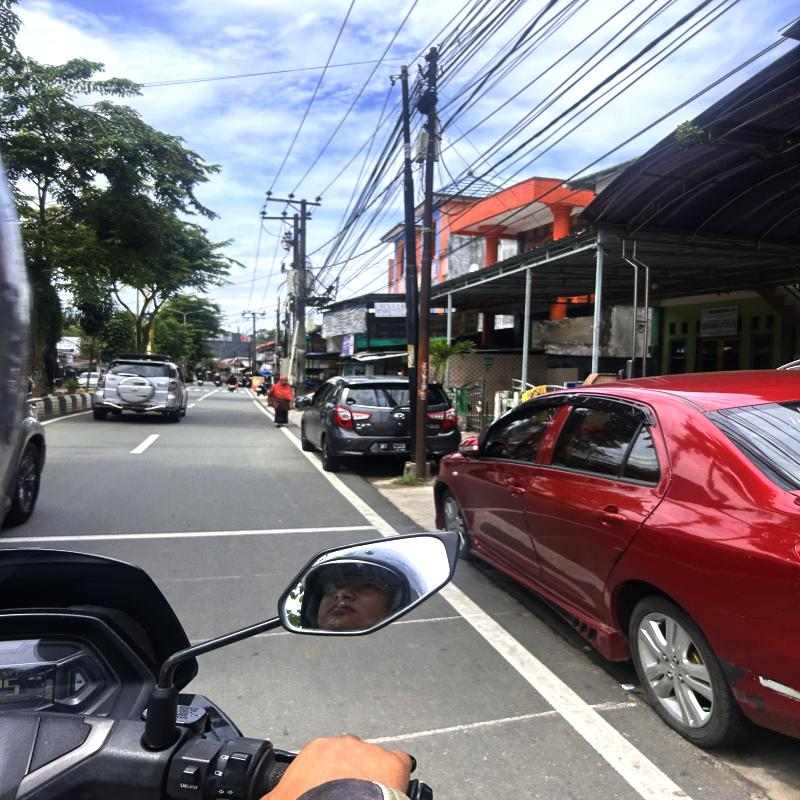license plate on a car: (380, 443, 412, 451)
